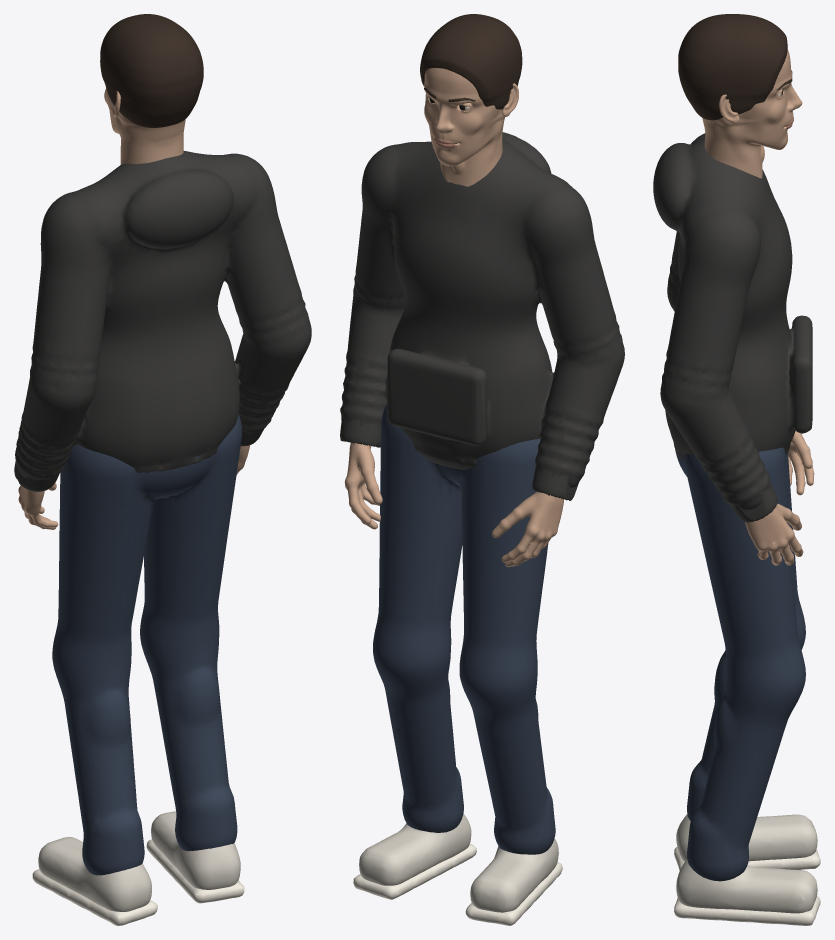
Rendered from ballcap_card.glb.
3 views of the same model, side by side, from view 1: azimuth 30°, elevation 25°; view 2: azimuth 150°, elevation 25°; view 3: azimuth 270°, elevation 25° (orthographic).
Parts seen in each view (by area): view 1: ballcap_card_body, ballcap_card_head, ballcap_card_hands; view 2: ballcap_card_body, ballcap_card_head, ballcap_card_hands; view 3: ballcap_card_body, ballcap_card_head, ballcap_card_hands.
Boxes of the visible parts, box(x1,y1,x2,y2) form: ballcap_card_body: box(15, 151, 311, 925); ballcap_card_head: box(100, 14, 203, 164); ballcap_card_hands: box(14, 429, 263, 529); ballcap_card_body: box(340, 132, 624, 925); ballcap_card_head: box(420, 14, 522, 186); ballcap_card_hands: box(340, 417, 578, 567); ballcap_card_body: box(653, 133, 820, 925); ballcap_card_head: box(678, 14, 802, 178); ballcap_card_hands: box(729, 431, 814, 565).
Bounding box in the file's own units: 0.552 × 1.7 × 0.2971.
